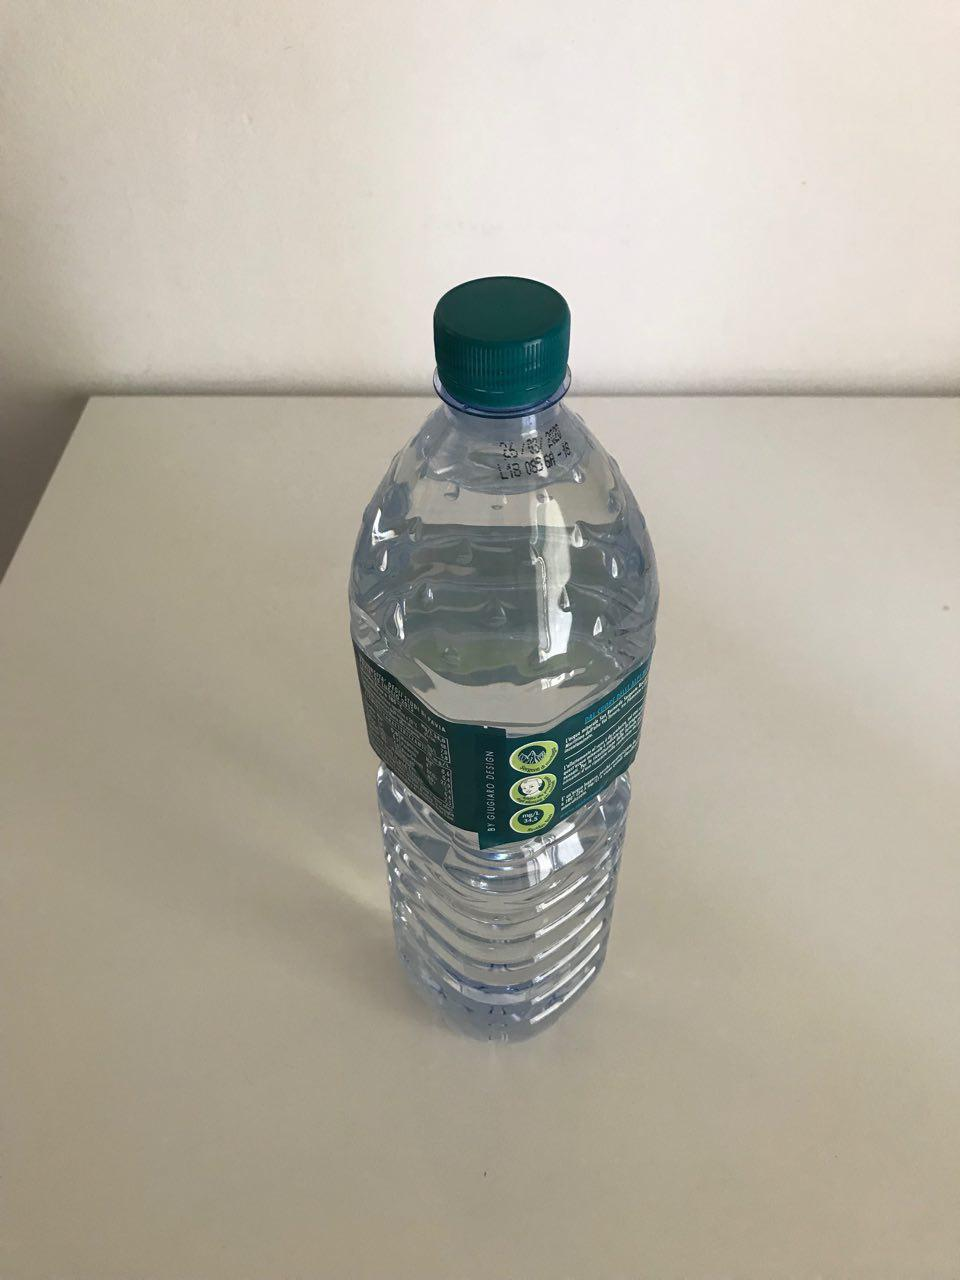san_bernardo: (346, 274, 662, 1045)
